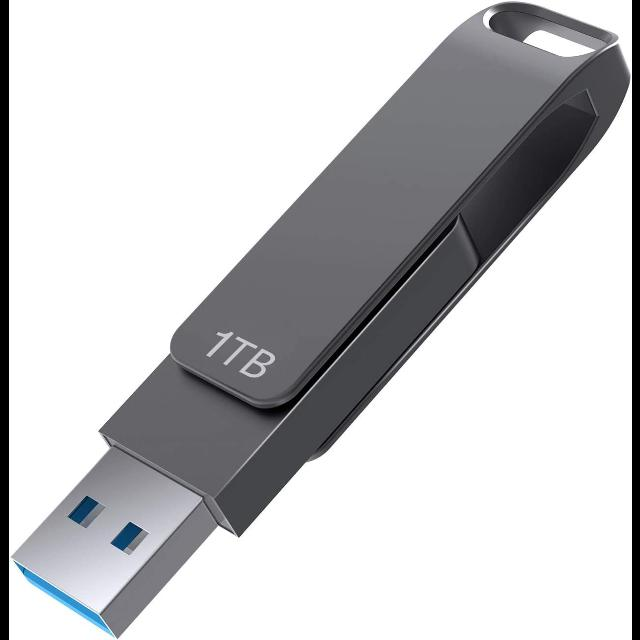USB-Flash-Drive: (15, 0, 630, 640)
